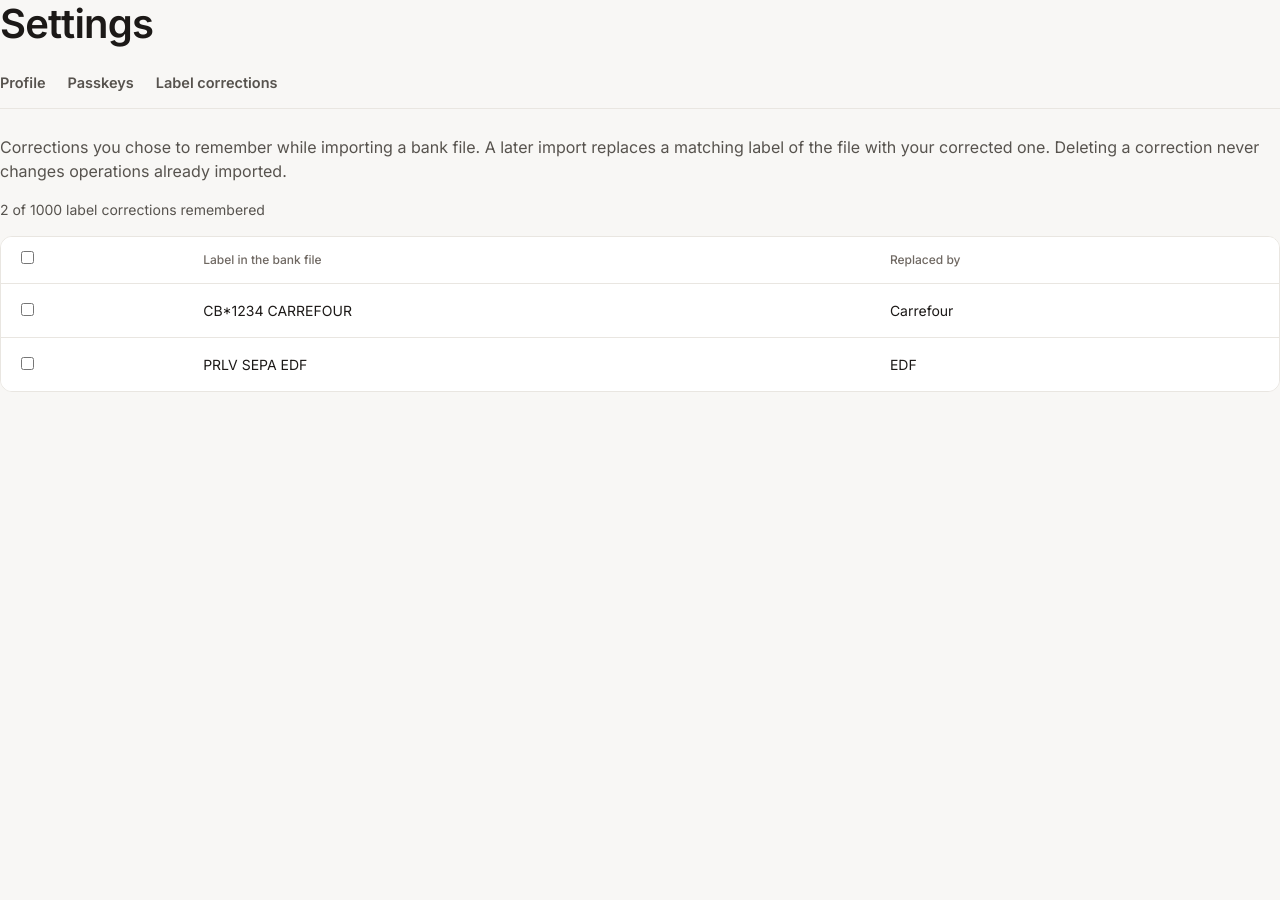
it: LabelCorrectionsPage › offers deletion only once a row is selected
This screenshot has width=1280, height=900.
Click the checkbox named "Select CB*1234 CARREFOUR" at (28, 309), box [21,303,34,316]
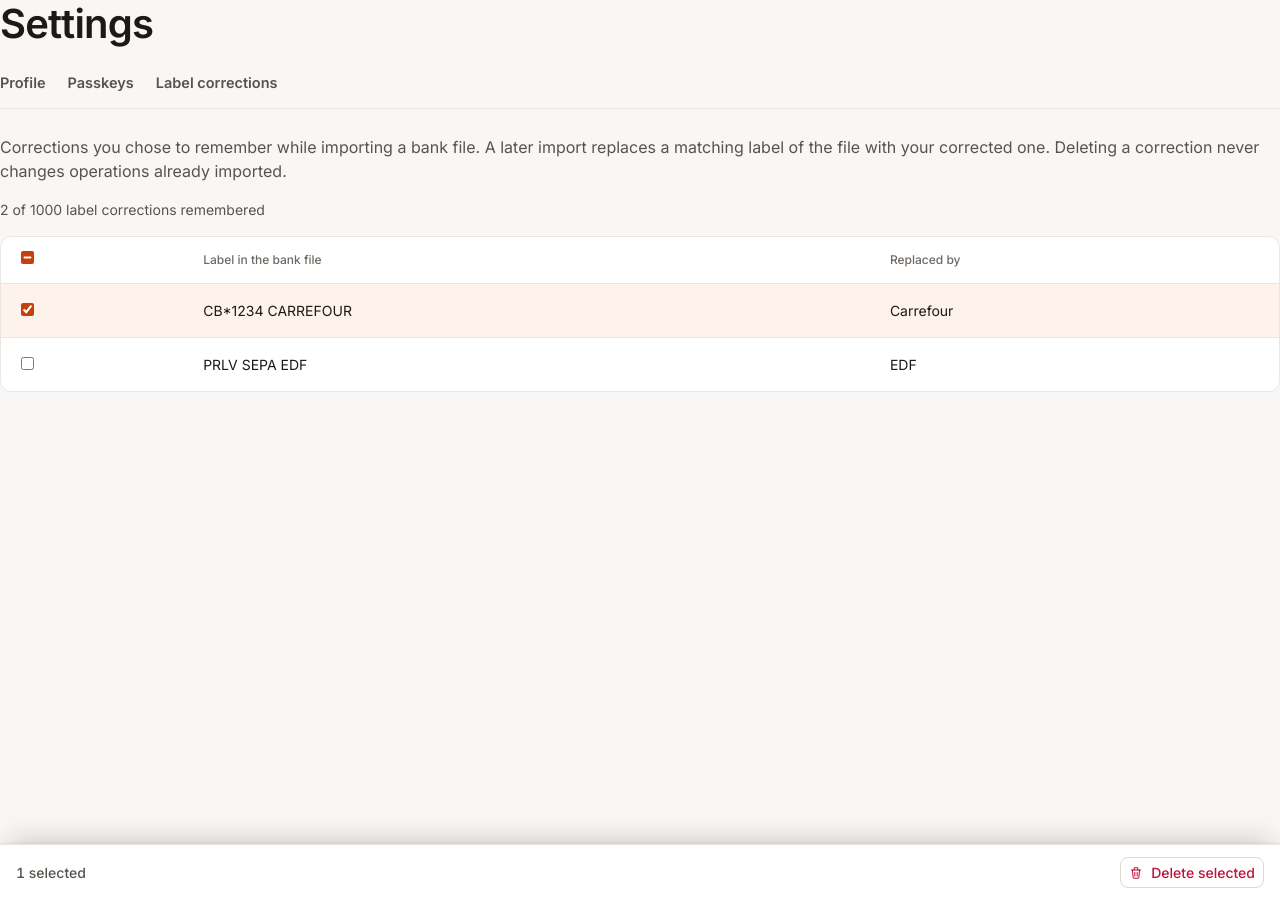
Expected: the button with test id "label-correction-delete" is shown, [1120,857,1264,888]
